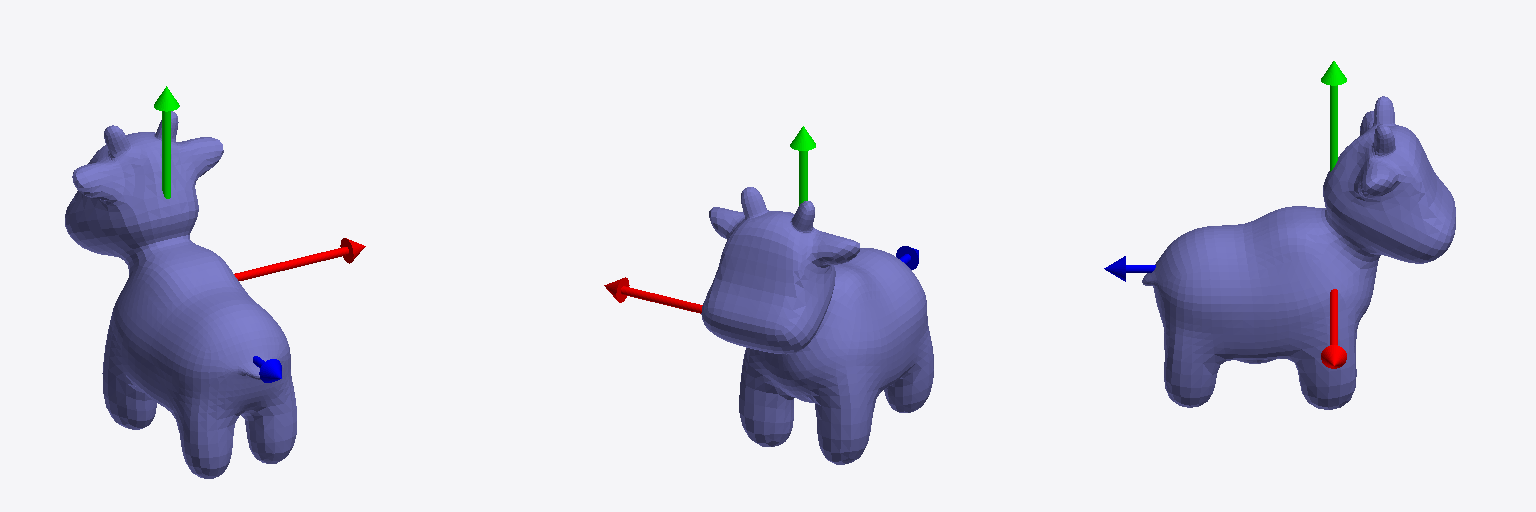
3 views of the same model, side by side, from view 1: azimuth 30°, elevation 25°; view 2: azimuth 150°, elevation 25°; view 3: azimuth 270°, elevation 25° (orthographic).
Size of the model in its own units: 1.73 by 2 by 1.93.
Materials: 1 (1 with a texture image).